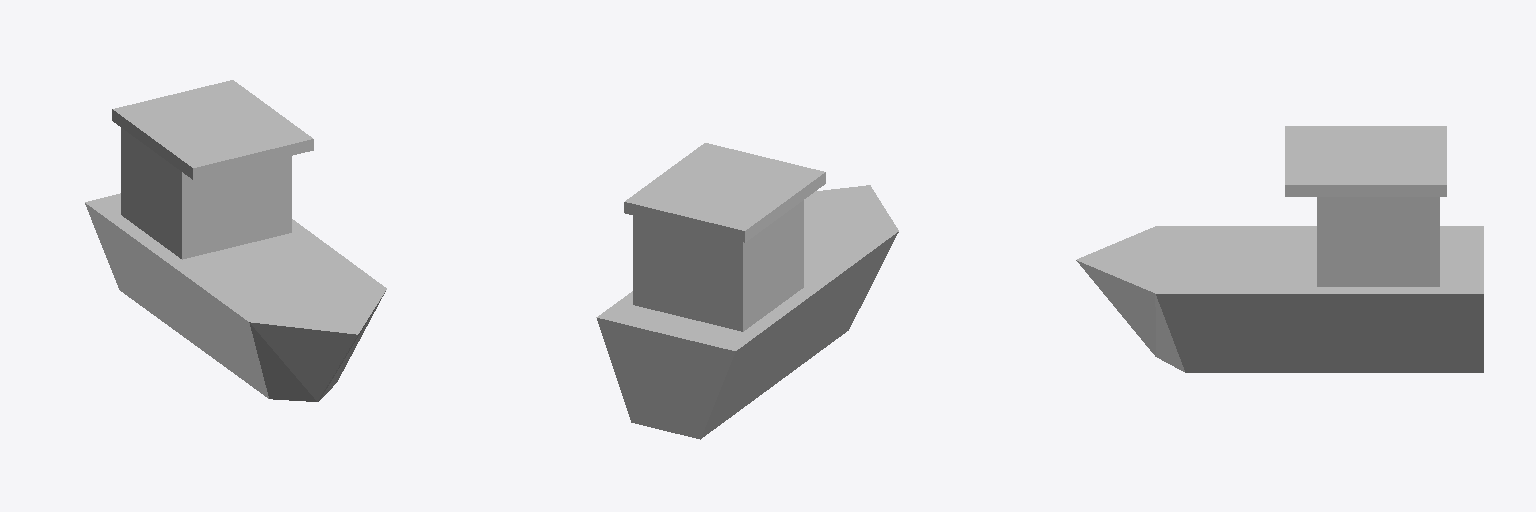
File: boatToken.obj
3 renders of one model, left to right at view 1: azimuth 30°, elevation 25°; view 2: azimuth 150°, elevation 25°; view 3: azimuth 270°, elevation 25°, orthographic.
Parts seen in each view (by area): view 1: Cube; view 2: Cube; view 3: Cube.
Boxes of the visible parts, x1=… form: Cube: x1=85, y1=80, x2=386, y2=401; Cube: x1=596, y1=143, x2=898, y2=439; Cube: x1=1076, y1=126, x2=1483, y2=372.
Size of the model in its own units: 2.04 by 2.81 by 5.18.